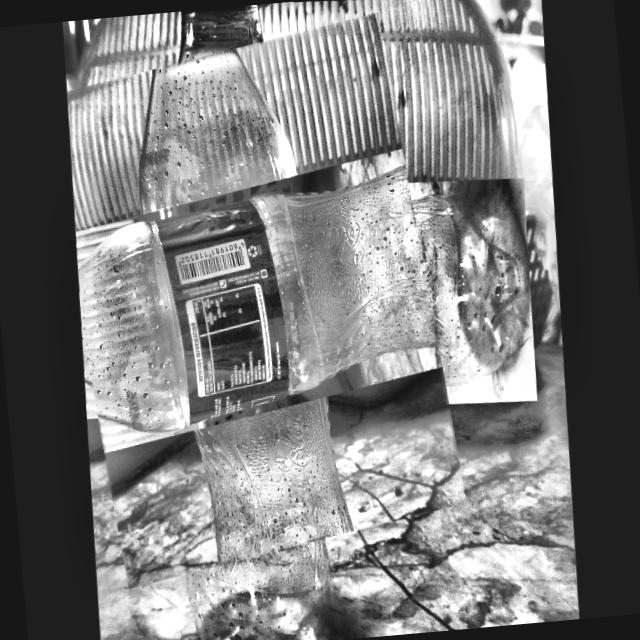Plastic-Bottle: (48, 8, 470, 590)
